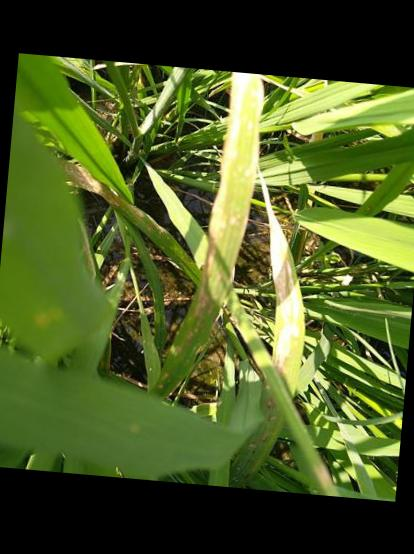Leaf Streak: (162, 71, 263, 377), (59, 155, 198, 281), (258, 171, 304, 397), (228, 384, 280, 487)
